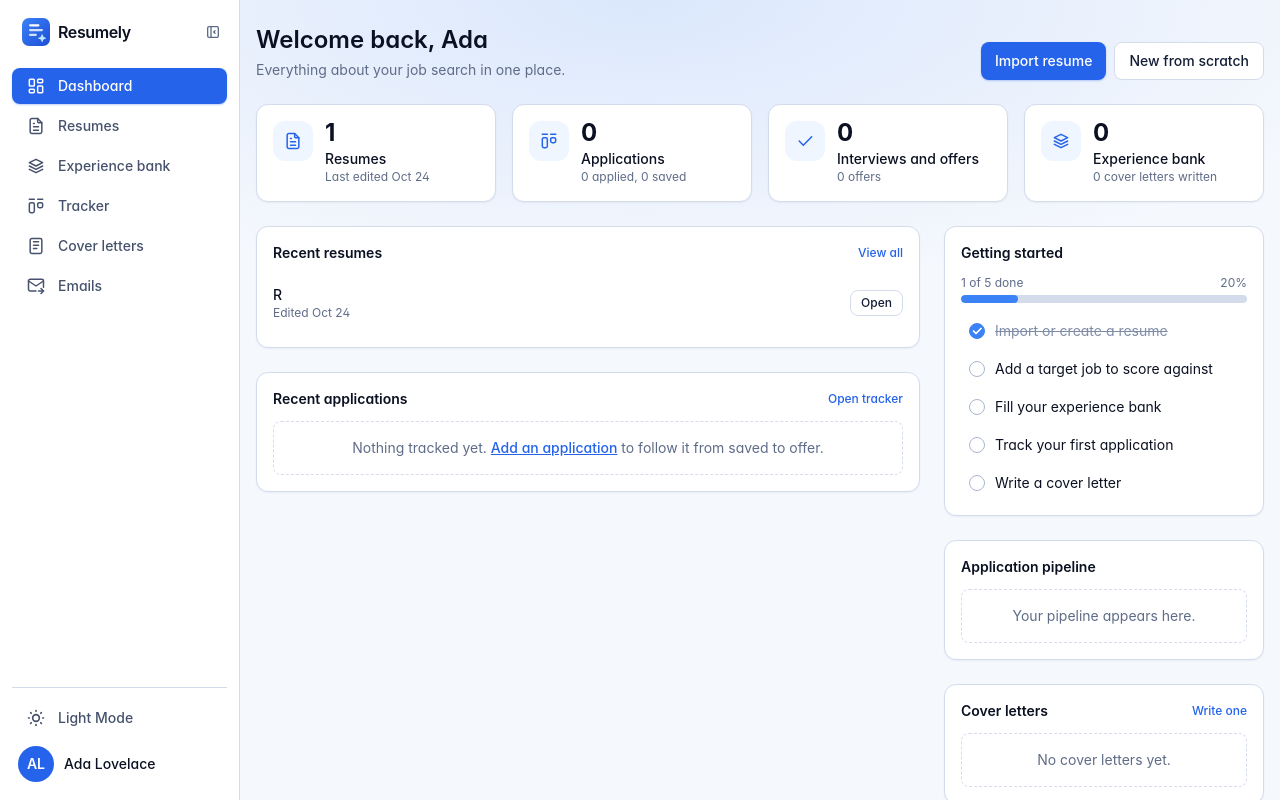
Test: navbar › shows initials and email from your resume, and closes with Escape
Click the button with aria-label "Profile" at (120, 764), box left=12, top=740, right=227, bottom=788
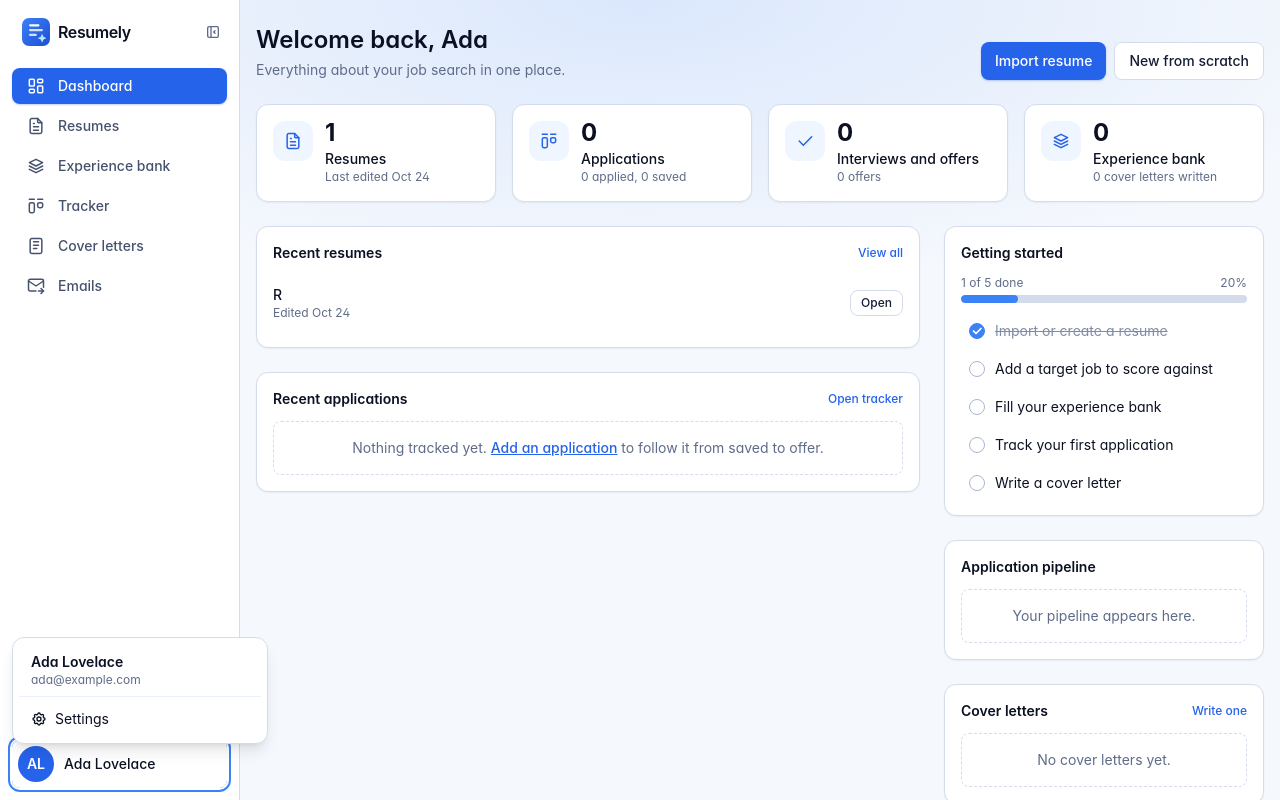
Check: the menu shows "Ada Lovelace", box left=31, top=653, right=123, bottom=670
Check: the menu shows "ada@example.com", box left=31, top=672, right=141, bottom=687
Press Escape
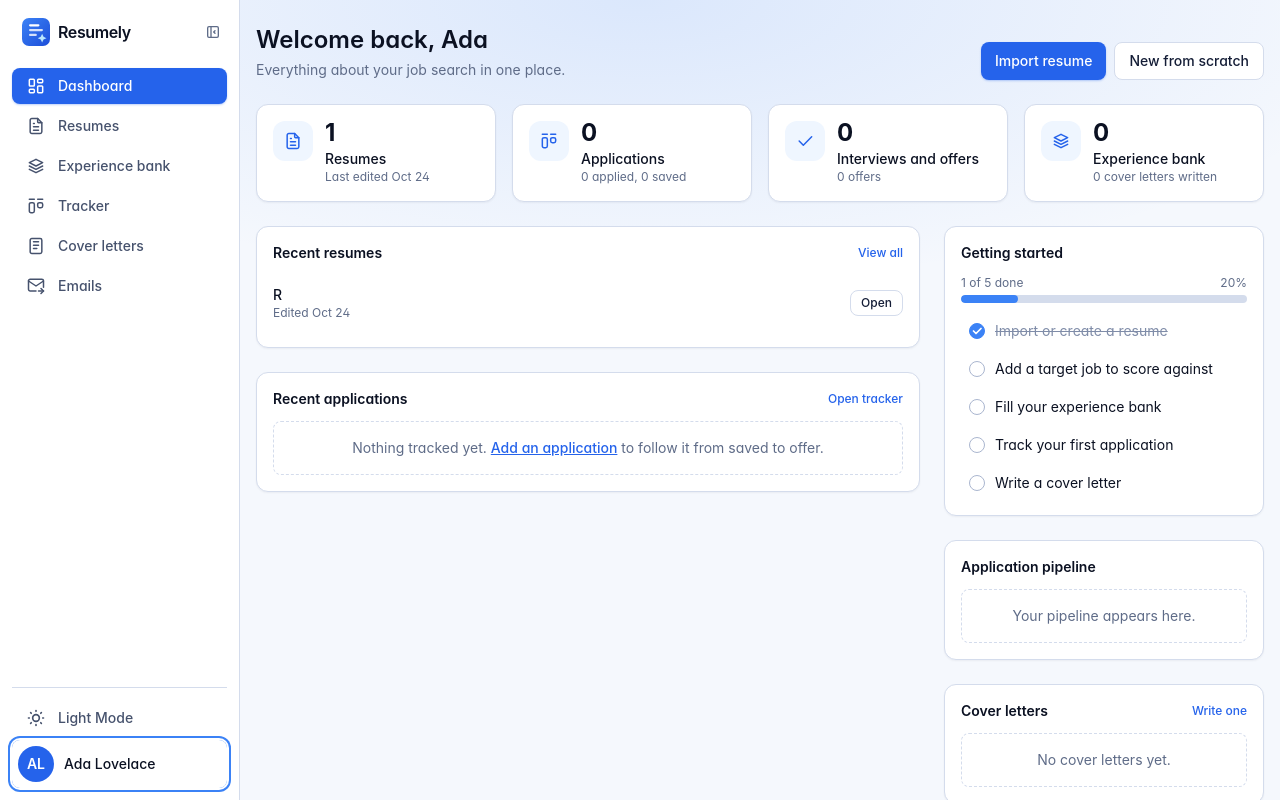
Check: the menu is gone
